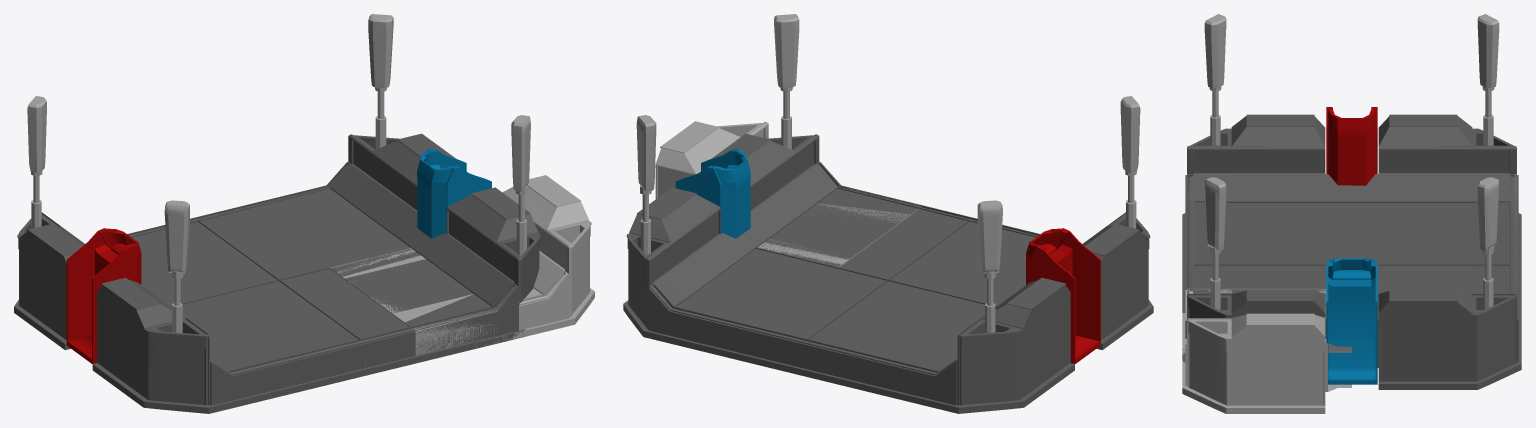
File: Arena.fbx
3 renders of one model, left to right at view 1: azimuth 30°, elevation 25°; view 2: azimuth 150°, elevation 25°; view 3: azimuth 270°, elevation 25°, orthographic. The views are drawn at different scales.
Visible parts, largest first — view 1: polySurface15, polySurface17, polySurface5, polySurface16, polySurface7, polySurface14, pCube8, pCube7; view 2: polySurface16, polySurface17, polySurface5, polySurface15, polySurface14, pCube8, polySurface7, pCube7; view 3: polySurface15, polySurface16, polySurface17, polySurface7, polySurface14, pCube7, polySurface5, pCube8.
Boxes of the visible parts, box(x1,y1,x2,y2) form: polySurface15: box(92, 200, 366, 413); polySurface17: box(194, 14, 455, 280); polySurface5: box(279, 187, 540, 375); polySurface16: box(14, 96, 278, 350); polySurface7: box(329, 175, 594, 355); polySurface14: box(288, 115, 540, 341); pCube8: box(66, 228, 141, 363); pCube7: box(417, 149, 491, 238); polySurface16: box(801, 200, 1074, 413); polySurface17: box(623, 115, 888, 375); polySurface5: box(711, 133, 972, 280); polySurface15: box(888, 96, 1153, 350); polySurface14: box(720, 14, 970, 273); pCube8: box(1026, 228, 1100, 363); polySurface7: box(655, 121, 921, 267); pCube7: box(675, 149, 750, 238); polySurface15: box(1182, 14, 1351, 289); polySurface16: box(1352, 14, 1521, 289); polySurface17: box(1377, 177, 1521, 389); polySurface7: box(1182, 288, 1351, 413); polySurface14: box(1182, 177, 1326, 362); pCube7: box(1326, 258, 1377, 384); polySurface5: box(1182, 264, 1326, 361); pCube8: box(1326, 107, 1377, 185).
Bounding box in the file's own units: 36.37 × 16.07 × 24.44.
